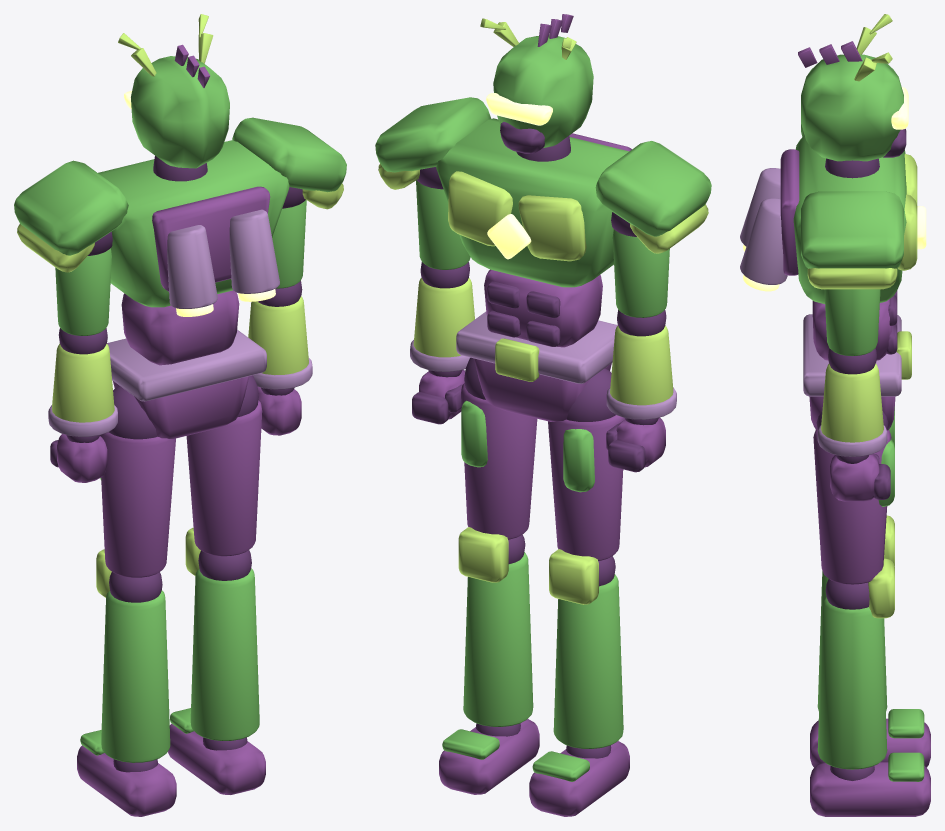
The model's file is venom.glb.
The picture shows the model from 3 angles, left to right: view 1: azimuth 30°, elevation 25°; view 2: azimuth 150°, elevation 25°; view 3: azimuth 270°, elevation 25°; orthographic projection.
Visible parts, largest first — view 1: chest, upper_arm_l, shin_l, shin_r, thigh_l, head, hips, thigh_r, upper_arm_r, lower_arm_l, abdomen, lower_arm_r (+4 smaller); view 2: chest, shin_r, shin_l, upper_arm_l, head, thigh_l, hips, thigh_r, upper_arm_r, abdomen, lower_arm_l, foot_l (+4 smaller); view 3: chest, upper_arm_r, shin_r, head, thigh_r, foot_r, lower_arm_r, hips, hand_r, foot_l, abdomen, shin_l.
Part boxes in pixels (bbox=[...]): chest: bbox=[98, 140, 289, 316]; upper_arm_l: bbox=[14, 160, 128, 335]; shin_l: bbox=[96, 549, 170, 762]; shin_r: bbox=[185, 527, 259, 740]; thigh_l: bbox=[100, 386, 175, 577]; head: bbox=[118, 14, 229, 168]; hips: bbox=[107, 329, 266, 438]; thigh_r: bbox=[186, 375, 262, 556]; upper_arm_r: bbox=[232, 117, 346, 288]; lower_arm_l: bbox=[48, 328, 117, 436]; abdomen: bbox=[121, 290, 239, 365]; lower_arm_r: bbox=[248, 280, 312, 389]; chest: bbox=[436, 118, 631, 287]; shin_r: bbox=[458, 527, 533, 726]; shin_l: bbox=[549, 549, 623, 748]; upper_arm_l: bbox=[595, 141, 711, 317]; head: bbox=[480, 14, 593, 153]; thigh_l: bbox=[548, 368, 624, 560]; hips: bbox=[456, 311, 617, 421]; thigh_r: bbox=[461, 357, 537, 539]; upper_arm_r: bbox=[375, 97, 490, 269]; abdomen: bbox=[484, 269, 602, 347]; lower_arm_l: bbox=[606, 309, 676, 419]; foot_l: bbox=[529, 741, 629, 816]; chest: bbox=[740, 135, 926, 303]; upper_arm_r: bbox=[801, 191, 903, 356]; shin_r: bbox=[817, 558, 894, 769]; head: bbox=[798, 14, 908, 161]; thigh_r: bbox=[813, 411, 894, 584]; foot_r: bbox=[810, 752, 930, 816]; lower_arm_r: bbox=[817, 348, 887, 456]; hips: bbox=[803, 314, 911, 430]; hand_r: bbox=[830, 454, 890, 501]; foot_l: bbox=[810, 709, 930, 767]; abdomen: bbox=[812, 290, 897, 360]; shin_l: bbox=[817, 515, 894, 710].
Size of the model in its own units: 0.758 by 1.86 by 0.4258.
